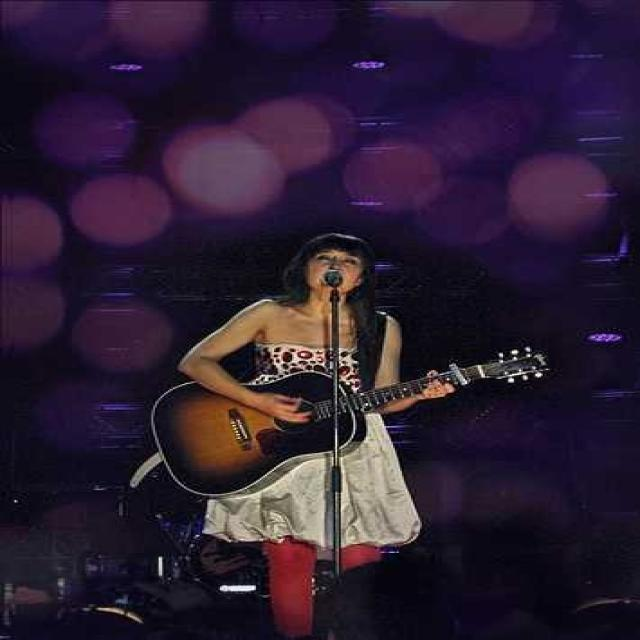microphone: (322, 269, 342, 287)
